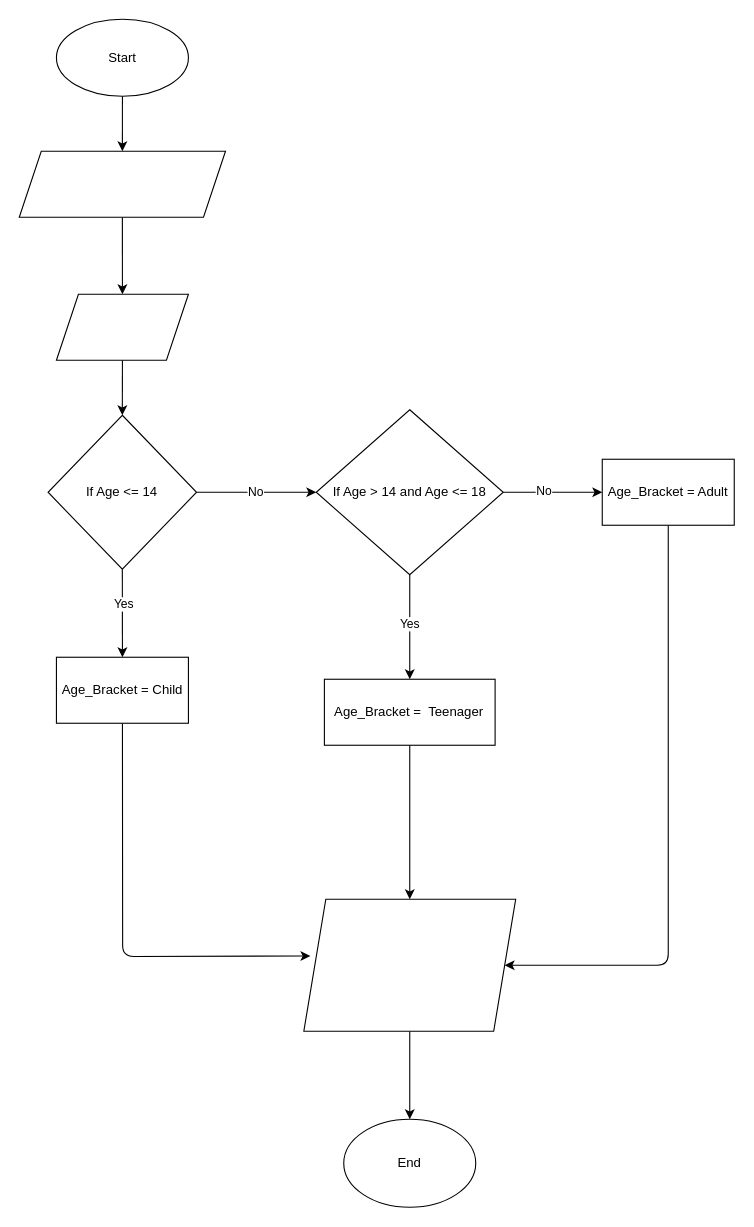
Some shapes in this 754 by 1227 pixel diagram are drawn without their labels. The centre of each missing label's shape, as x and y in pixels:
Display "Customer Age is" Age "Customer Age Bracket is" Age_Bracket: (x=409, y=964)
Display "What is your age?": (x=122, y=183)
Input Age: (x=121, y=326)
